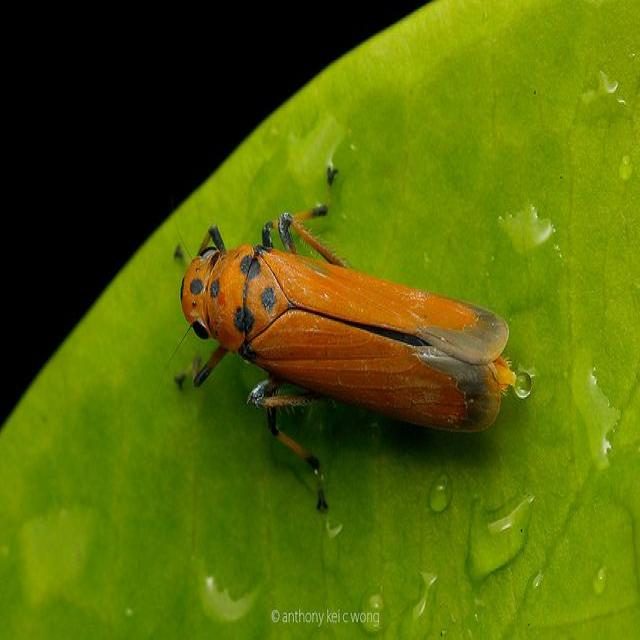Yechan: (160, 216, 548, 483)
